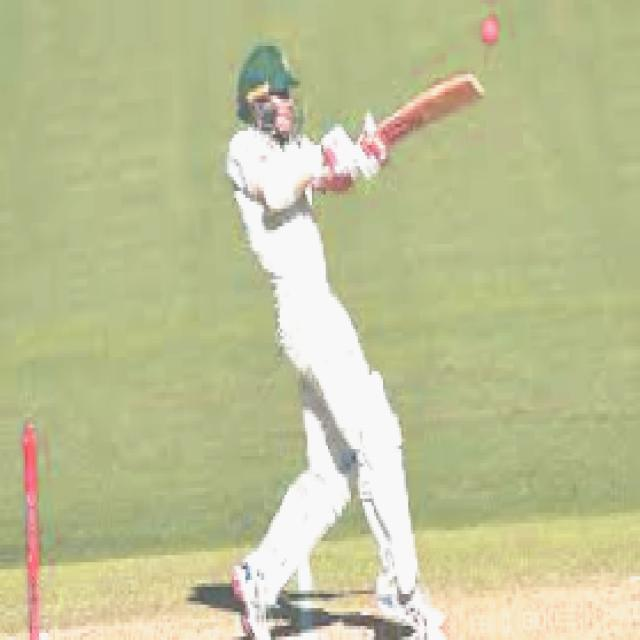toe: (463, 70, 490, 104)
